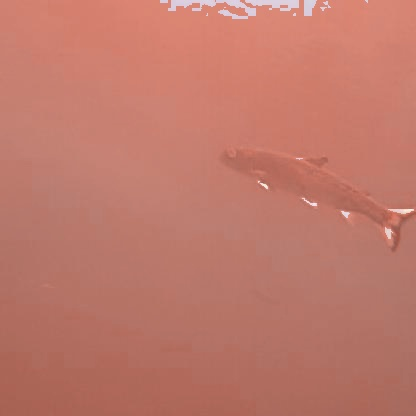salmon: (210, 140, 414, 252)
